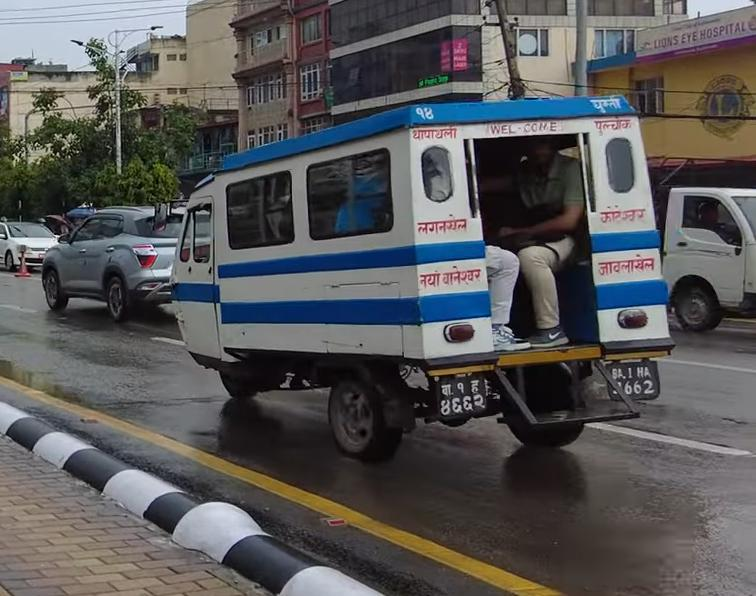car: (39, 198, 186, 323)
tempo: (176, 88, 675, 466)
